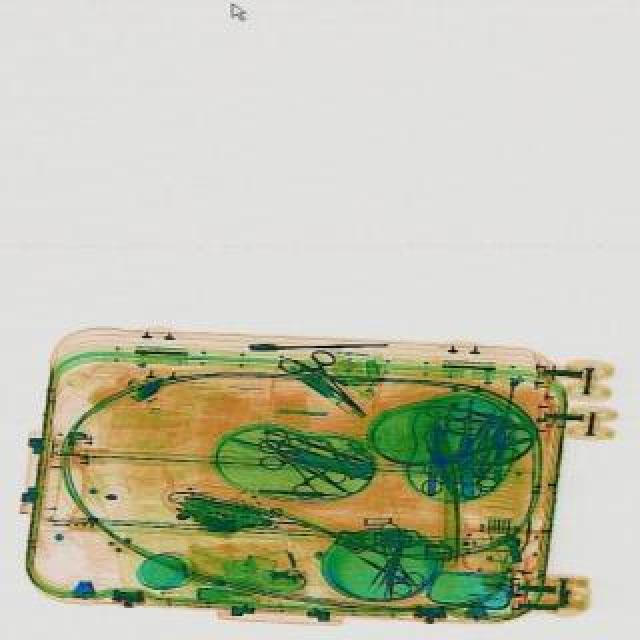pliers: (274, 332, 378, 432), (242, 418, 346, 510), (348, 544, 424, 600), (422, 406, 524, 446)
